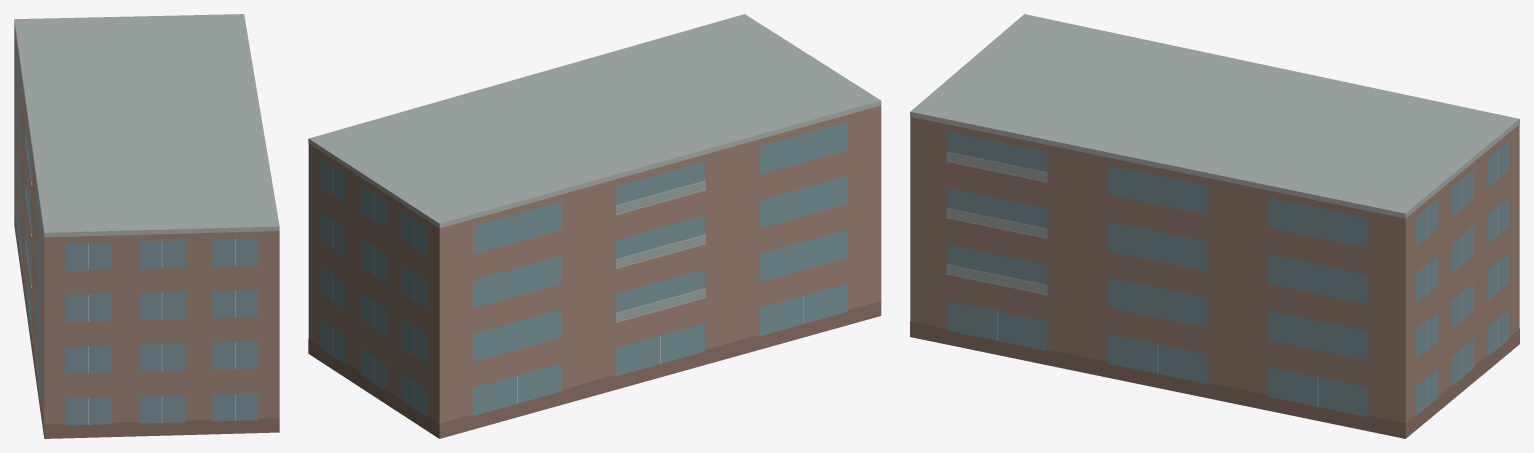
Rendered from survey-upis-32805064.glb.
3 renders of one model, left to right at view 1: azimuth 30°, elevation 25°; view 2: azimuth 150°, elevation 25°; view 3: azimuth 270°, elevation 25°, orthographic. The views are drawn at different scales.
Parts seen in each view (by area): view 1: survey-upis-32805064.tmp; view 2: survey-upis-32805064.tmp; view 3: survey-upis-32805064.tmp.
Boxes of the visible parts, left/top/right/bottom form: survey-upis-32805064.tmp: left=14, top=14, right=279, bottom=438; survey-upis-32805064.tmp: left=308, top=14, right=881, bottom=438; survey-upis-32805064.tmp: left=910, top=14, right=1519, bottom=438.
Size of the model in its own units: 20.91 by 11 by 26.98.
